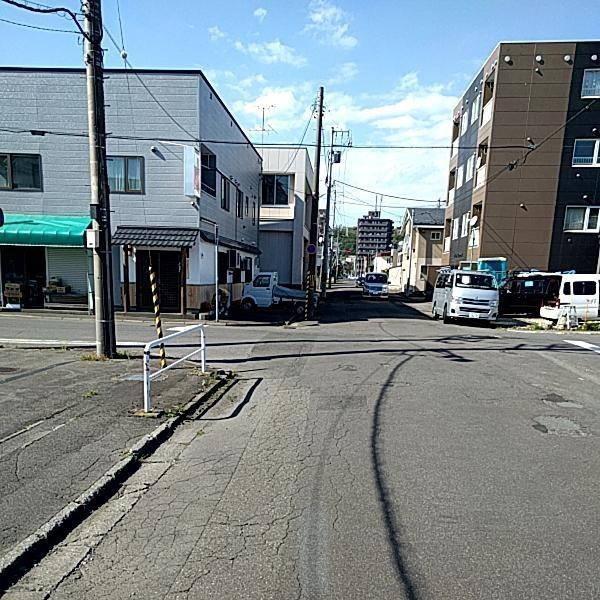pothole: (533, 415, 586, 437), (541, 399, 587, 408)
